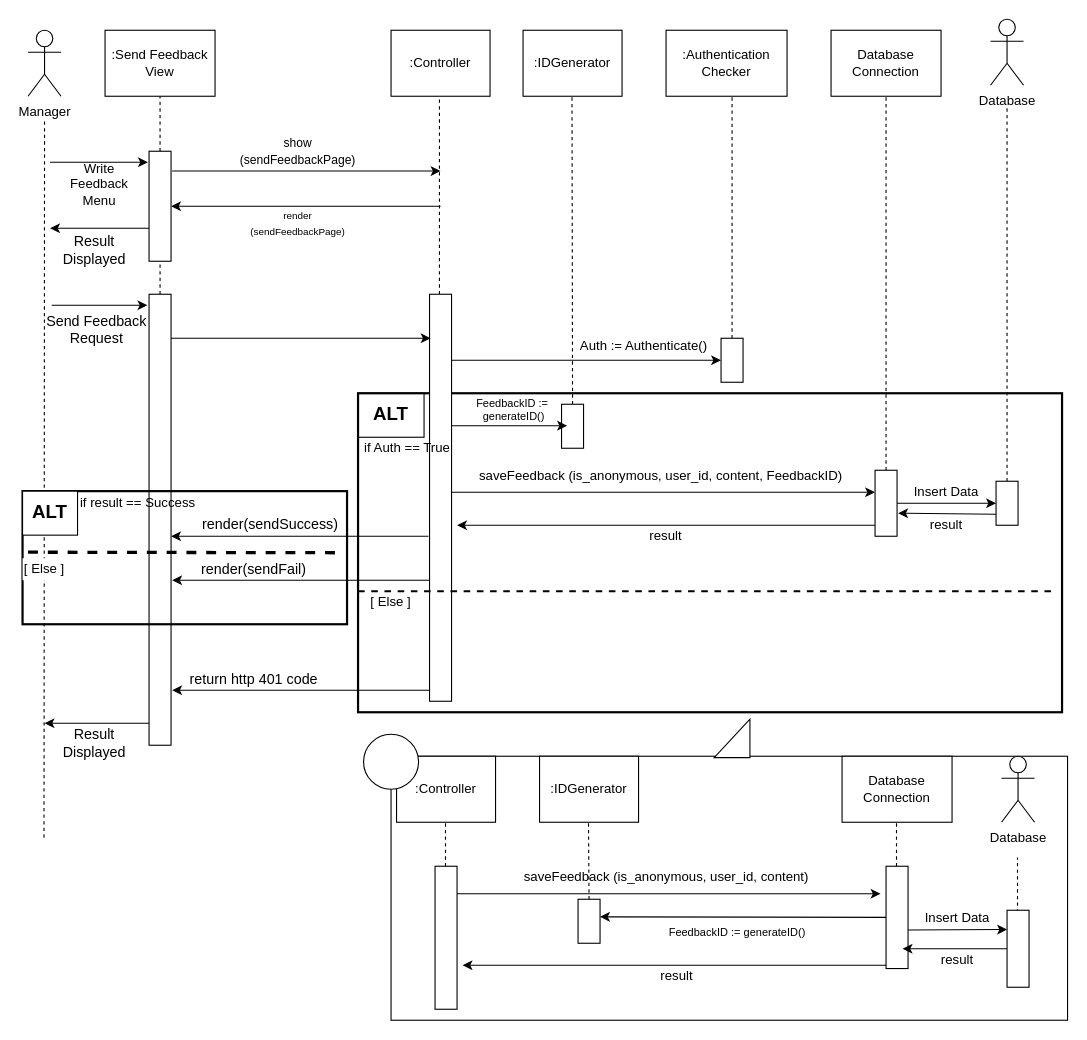
Image size: 1087x1040. Some labels were removed from this diagram. The shapes that lost their labels are listed below. From the top down, each one's centre as x and y in pixels, then its label:
At [291,317]: "sendFeedback (is_anonymous, user_id, content)".
At [390,761]: "V1".
